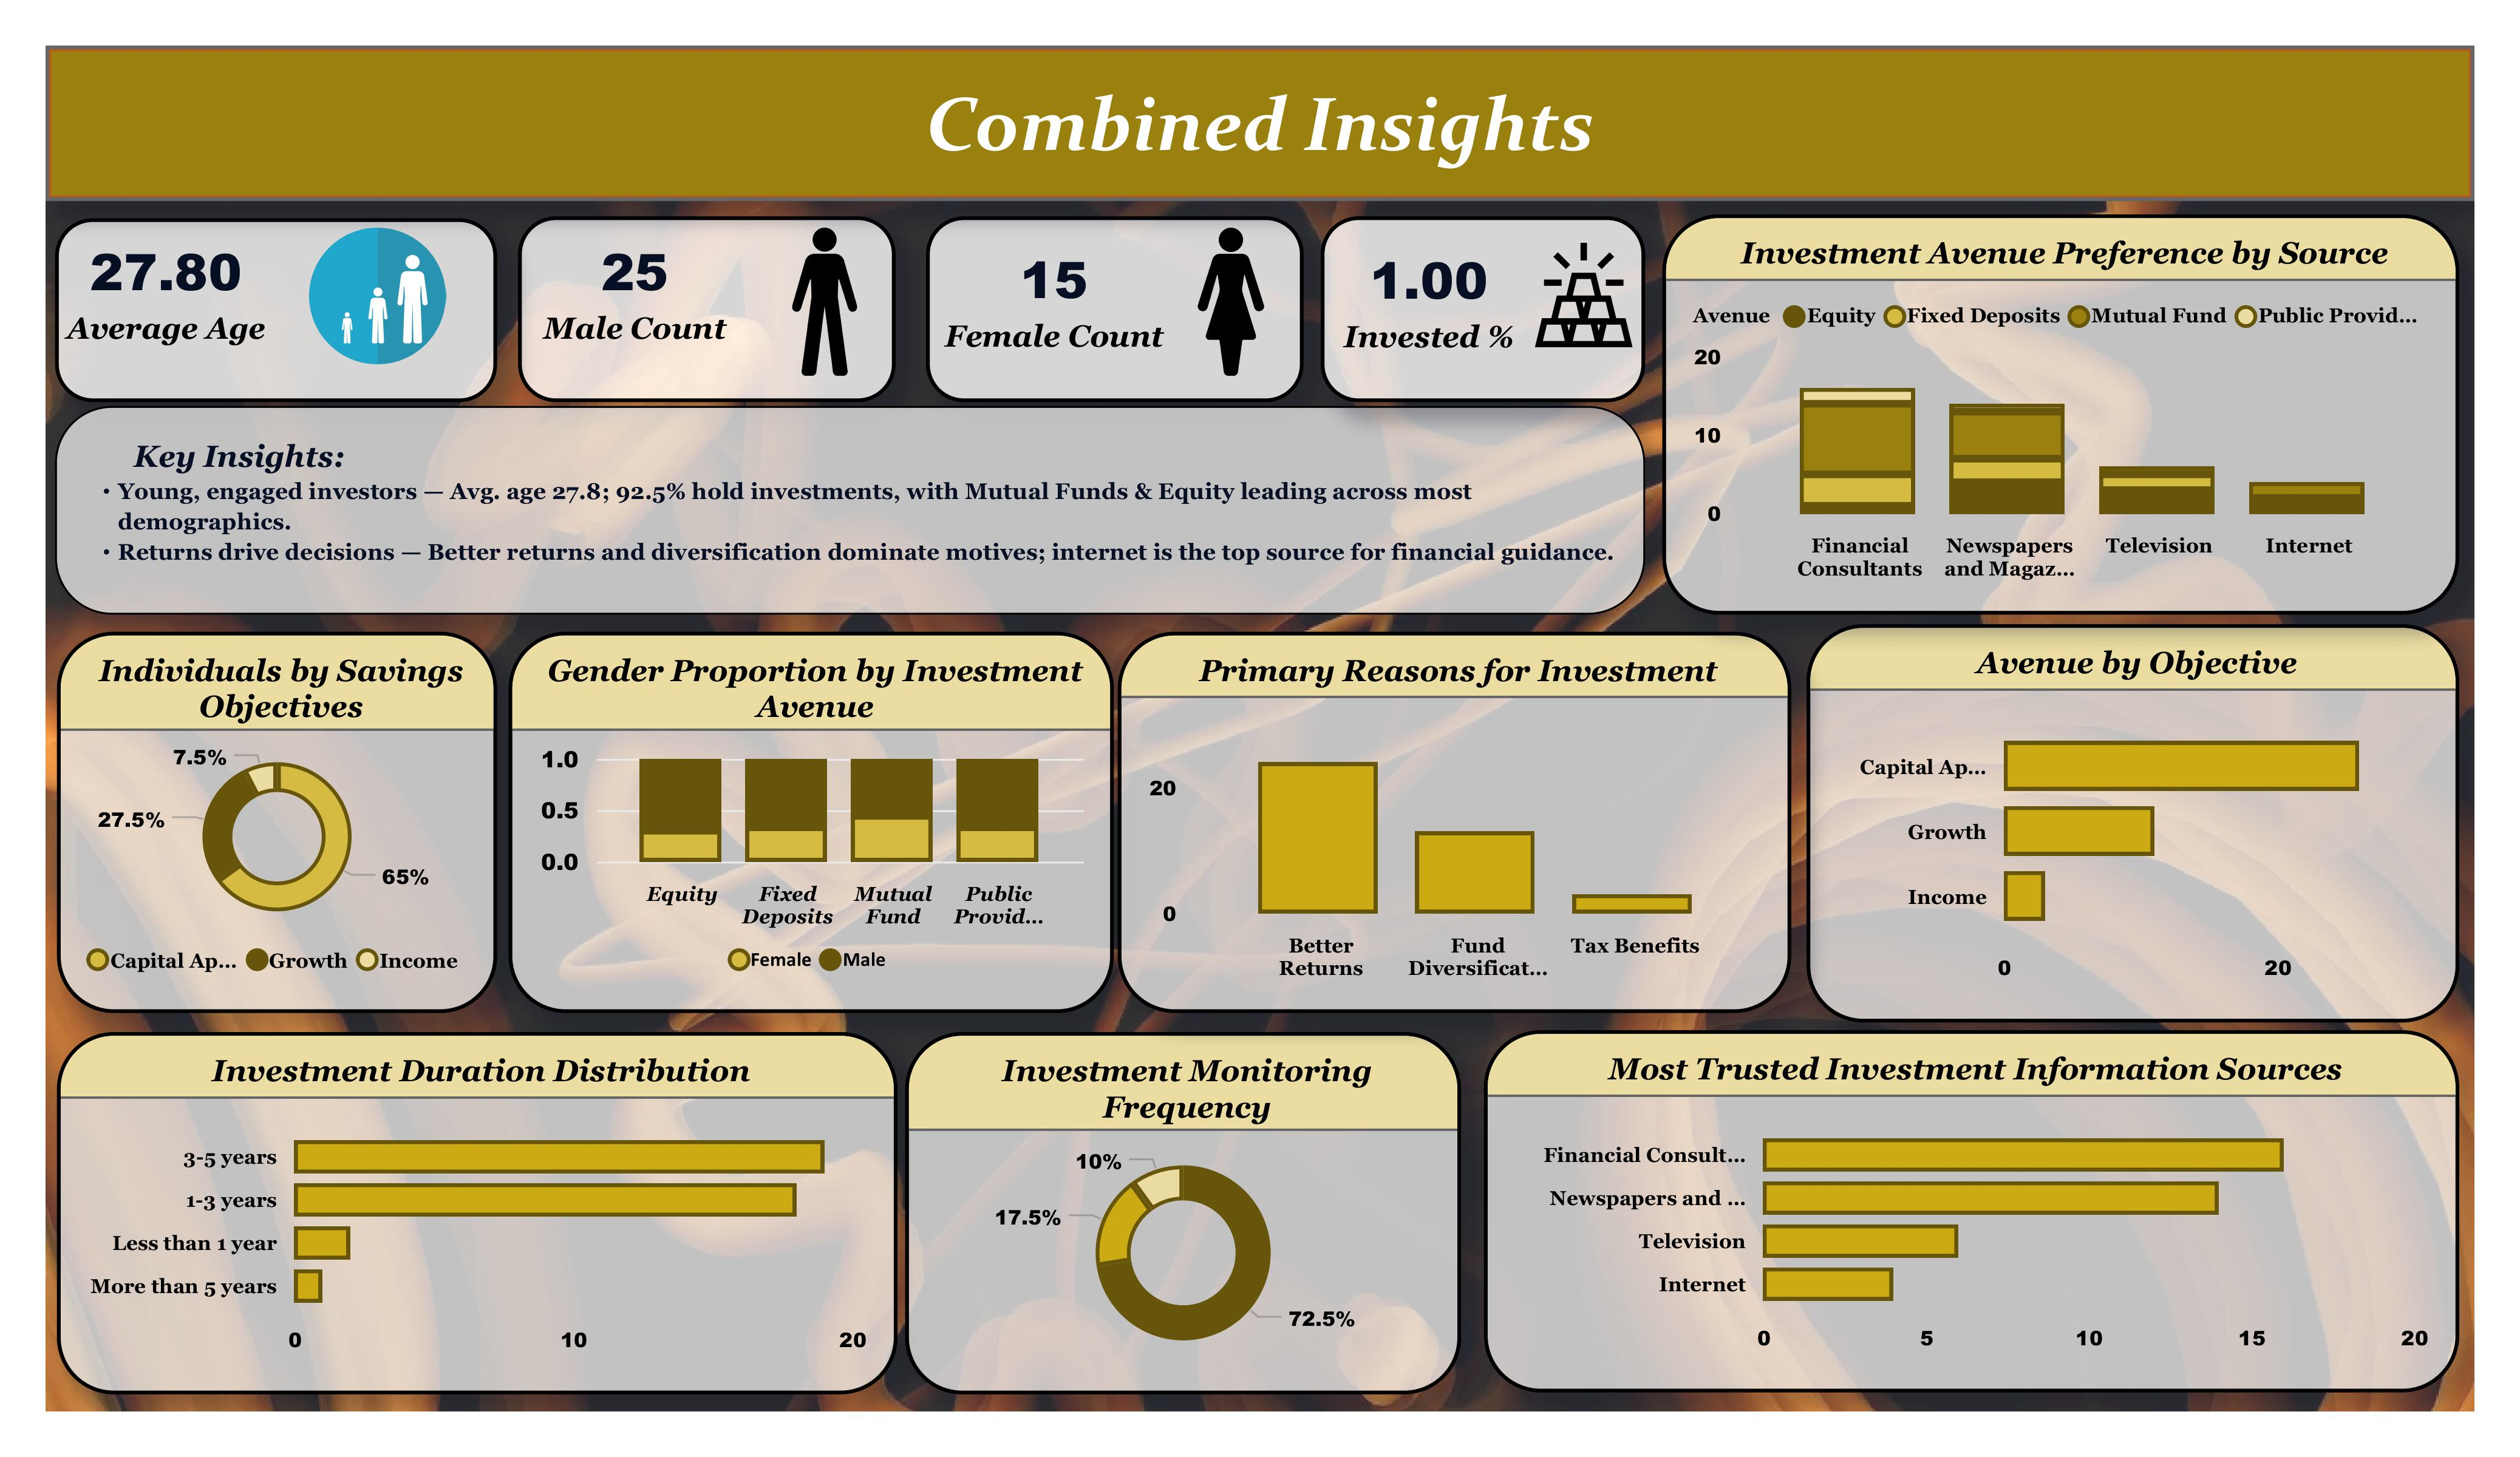

What the dashboard file says about the page in this screenshot:
{"tool":"powerbi","page":{"name":"Task 7","canvas":[1280,720],"ordinal":6},"visuals":[{"type":"shape","box":[464.2,90.1,198.8,97.5],"z":0},{"type":"shape","box":[249.4,90.1,198.8,97.5],"z":1000},{"type":"shape","box":[4.9,91.4,233.3,96.3],"z":2000},{"type":"shape","box":[0,0,1280,82],"z":3000},{"type":"card","fields":{"Values":["Data_set 2.Avg Age"]},"box":[4.9,77.8,117.3,101.2],"z":10000},{"type":"card","fields":{"Values":["Data_set 2.Male"]},"box":[249.4,90.1,122.2,76.5],"z":11000},{"type":"card","fields":{"Values":["Data_set 2.Female"]},"box":[464.2,91.4,134.6,82.7],"z":12000},{"type":"image","box":[122.2,91.4,104.9,81.5],"z":13000},{"type":"image","box":[371.6,91.4,76.5,87.7],"z":14000},{"type":"image","box":[586.4,91.4,76.5,87.7],"z":15000},{"type":"textbox","box":[4.9,190.1,838.3,109.9],"z":18001},{"type":"shape","box":[671.6,90.1,171.6,97.5],"z":18002},{"type":"card","fields":{"Values":["Data_set 2.Invested %"]},"box":[671.6,92.6,114.8,80.2],"z":18003},{"type":"donutChart","title":"Individuals by Savings Objectives","fields":{"Category":["Data_set 2.Objective"],"Y":["Data_set 2.Pct_By_Objective"]},"box":[6.2,308.6,232.1,201.2],"z":18004},{"type":"columnChart","title":"Gender Proportion by Investment Avenue","fields":{"Category":["Data_set 2.Avenue"],"Series":["Data_set 2.gender"],"Y":["Data_set 2.Pct by Avenue & Gender"]},"box":[244.4,308.6,318.5,201.2],"z":18005},{"type":"clusteredBarChart","title":"Avenue by Objective","fields":{"Category":["Data_set 2.Objective"],"Y":["CountNonNull(Data_set 2.Avenue)"]},"box":[928.4,304.9,343.2,209.9],"z":18006},{"type":"clusteredBarChart","title":"Investment Duration Distribution","fields":{"Y":["Data_set 2.Count Investors"],"Category":["Data_set 2.Duration"]},"box":[6.2,519.8,443.2,191.4],"z":18007},{"type":"donutChart","title":"Investment Monitoring Frequency","fields":{"Category":["Data_set 2.Invest_Monitor"],"Y":["Data_set 2.Count Investors"]},"box":[453.1,519.8,292.6,191.4],"z":18008},{"type":"clusteredColumnChart","title":"Primary Reasons for Investment","fields":{"Category":["Data_set 2.Reason_Mutual"],"Y":["Data_set 2.Count Investors"]},"box":[565.4,308.6,354.3,201.2],"z":18009},{"type":"clusteredBarChart","title":"Most Trusted Investment Information Sources","fields":{"Category":["Data_set 2.Source"],"Y":["Data_set 2.Count Investors"]},"box":[758,518.5,513.6,191.4],"z":18010},{"type":"columnChart","title":"Investment Avenue Preference by Source","fields":{"Series":["Data_set 2.Avenue"],"Y":["Data_set 2.Count Investors"],"Category":["Data_set 2.Source"]},"box":[851.9,88.9,419.8,211.1],"z":18011},{"type":"image","box":[777.8,92.6,65.4,77.8],"z":18012}]}

Visuals, with their boxes on the page's 1280x720 design canvas (x1, y1, x2, y2). These are canvas units, not pixel positions in the 2520x1457 screenshot, which may show the page scaled, cropped or inside an application window:
shape: region(464, 90, 663, 188)
shape: region(249, 90, 448, 188)
shape: region(5, 91, 238, 188)
shape: region(0, 0, 1280, 82)
card - Data_set 2.Avg Age: region(5, 78, 122, 179)
card - Data_set 2.Male: region(249, 90, 372, 167)
card - Data_set 2.Female: region(464, 91, 599, 174)
image: region(122, 91, 227, 173)
image: region(372, 91, 448, 179)
image: region(586, 91, 663, 179)
textbox: region(5, 190, 843, 300)
shape: region(672, 90, 843, 188)
card - Data_set 2.Invested %: region(672, 93, 786, 173)
"Individuals by Savings Objectives" donutChart: region(6, 309, 238, 510)
"Gender Proportion by Investment Avenue" columnChart: region(244, 309, 563, 510)
"Avenue by Objective" clusteredBarChart: region(928, 305, 1272, 515)
"Investment Duration Distribution" clusteredBarChart: region(6, 520, 449, 711)
"Investment Monitoring Frequency" donutChart: region(453, 520, 746, 711)
"Primary Reasons for Investment" clusteredColumnChart: region(565, 309, 920, 510)
"Most Trusted Investment Information Sources" clusteredBarChart: region(758, 518, 1272, 710)
"Investment Avenue Preference by Source" columnChart: region(852, 89, 1272, 300)
image: region(778, 93, 843, 170)
